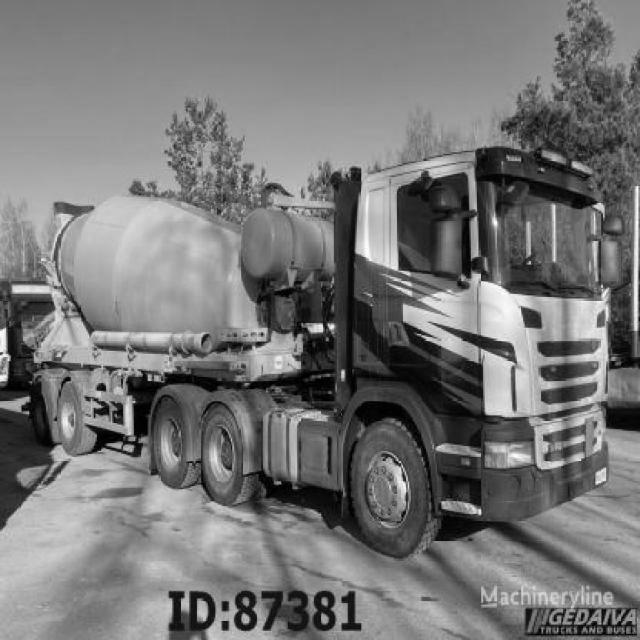Concrete Mixer: (26, 146, 632, 562)
